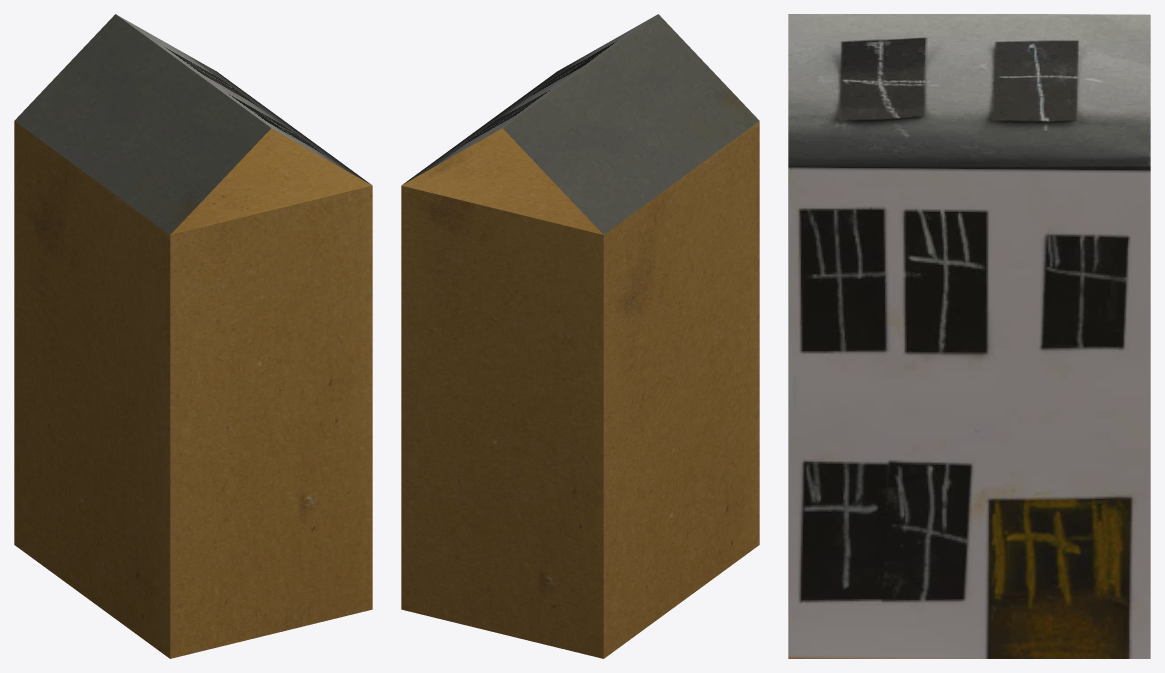
3 renders of one model, left to right at view 1: azimuth 30°, elevation 25°; view 2: azimuth 150°, elevation 25°; view 3: azimuth 270°, elevation 25°, orthographic. The views are drawn at different scales.
Parts seen in each view (by area): view 1: Cube, Cube.001; view 2: Cube, Cube.001; view 3: Cube, Cube.001.
Boxes of the visible parts, box(x1,y1,x2,y2) form: Cube: box(14, 121, 372, 658); Cube.001: box(14, 14, 372, 234); Cube: box(401, 121, 759, 658); Cube.001: box(401, 14, 759, 234); Cube: box(788, 166, 1150, 658); Cube.001: box(788, 14, 1150, 166).
Bounding box in the file's own units: 7.5 × 17.91 × 10.
Materials: 1 (1 with a texture image).
